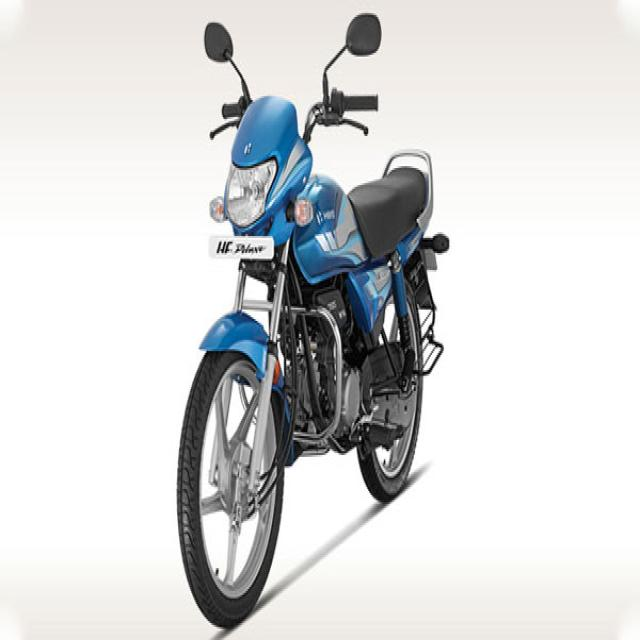MOTORCYCLE: (185, 74, 456, 630)
